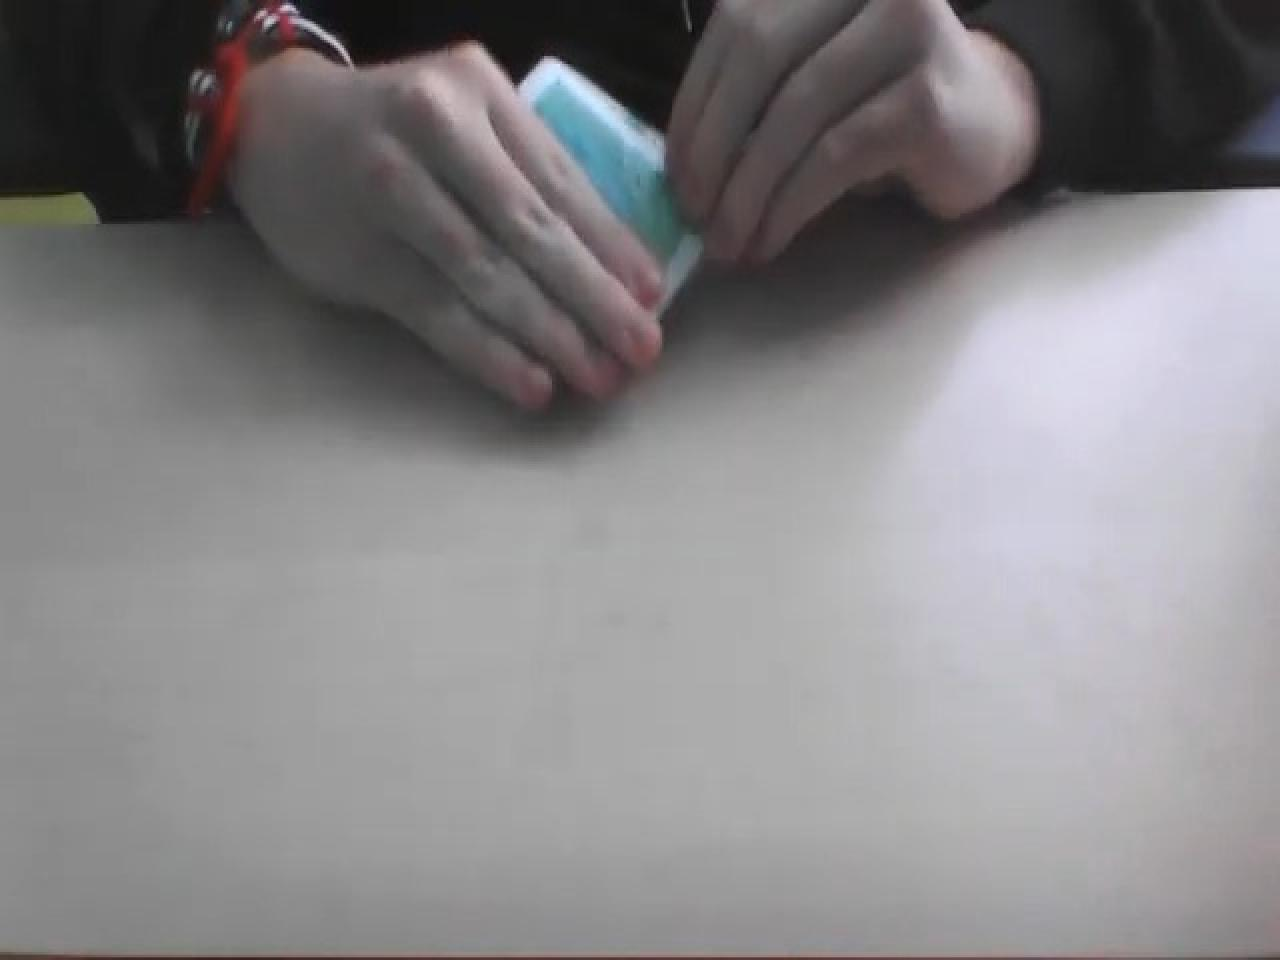100leva: (514, 50, 708, 326)
